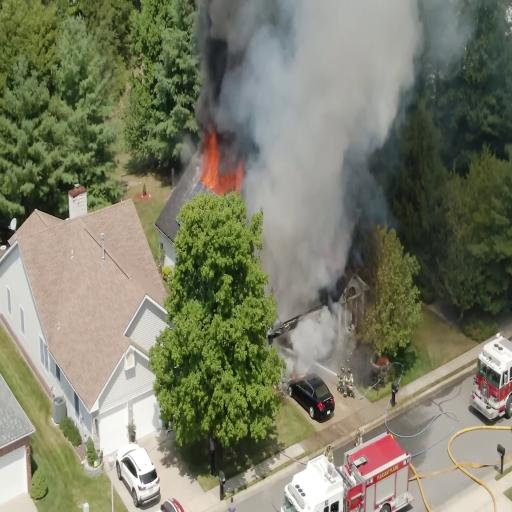fire: (200, 131, 238, 200)
smoke: (259, 14, 353, 222), (201, 20, 248, 146)
